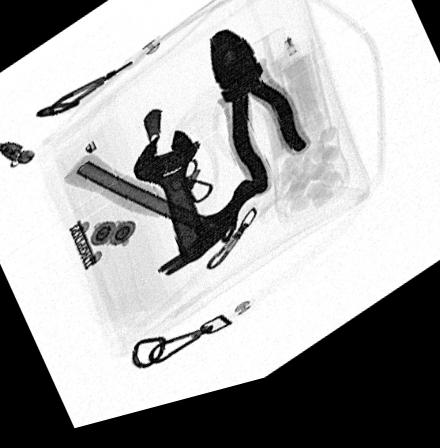Hammer: (59, 158, 260, 284)
Pliers: (203, 35, 310, 215)
Wrench: (132, 137, 208, 262)
